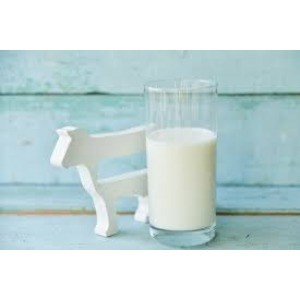milk_brain food: (133, 125, 221, 234)
